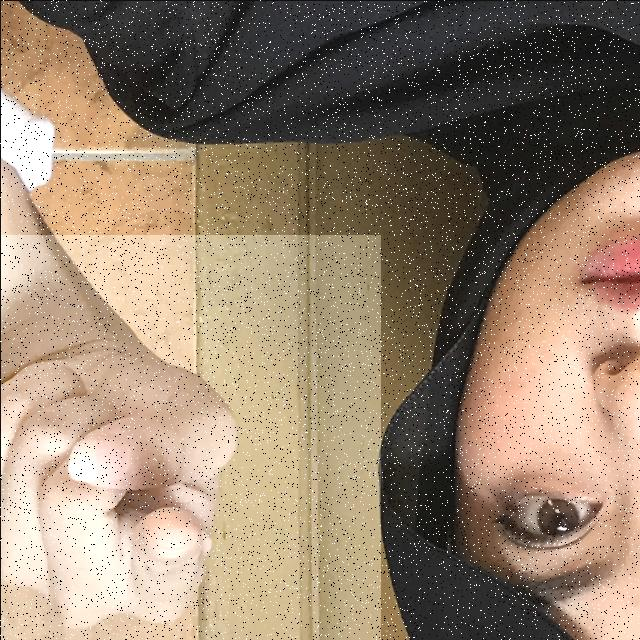kamu: (0, 234, 380, 640)
